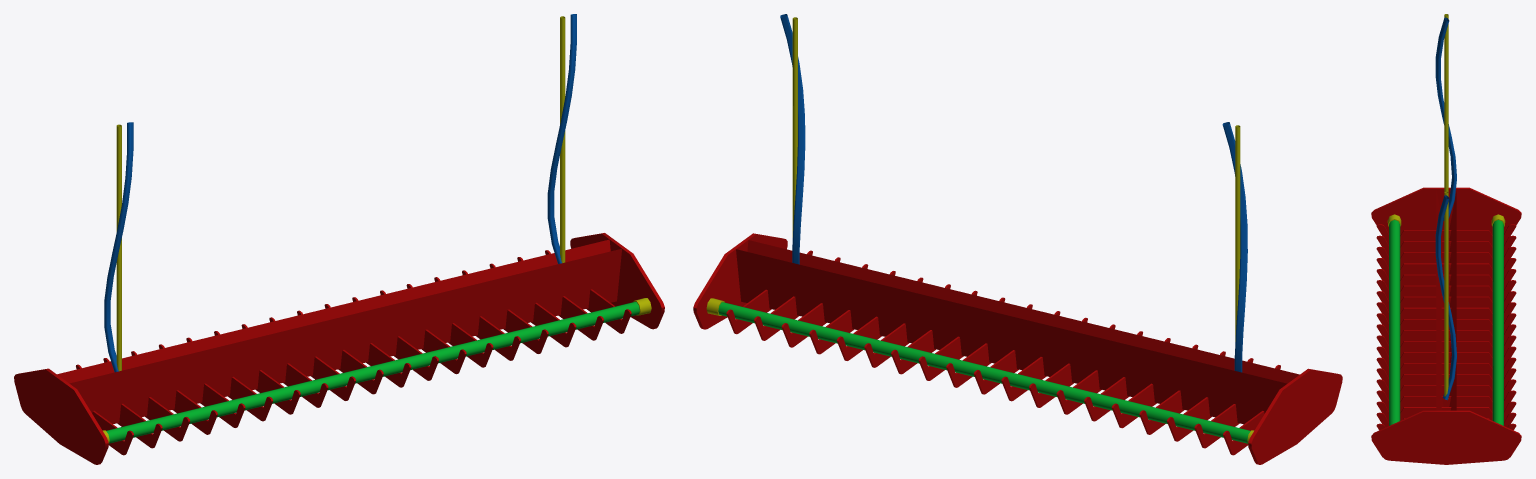
File: SM_light.fbx
3 views of the same model, side by side, from view 1: azimuth 30°, elevation 25°; view 2: azimuth 150°, elevation 25°; view 3: azimuth 270°, elevation 25° (orthographic). The views are drawn at different scales.
Parts seen in each view (by area): view 1: SM_light; view 2: SM_light; view 3: SM_light.
Boxes of the visible parts, x1=… form: SM_light: x1=14, y1=14, x2=664, y2=464; SM_light: x1=693, y1=14, x2=1342, y2=464; SM_light: x1=1371, y1=14, x2=1521, y2=464.
Size of the model in its own units: 1.21 by 0.633 by 0.3439.
